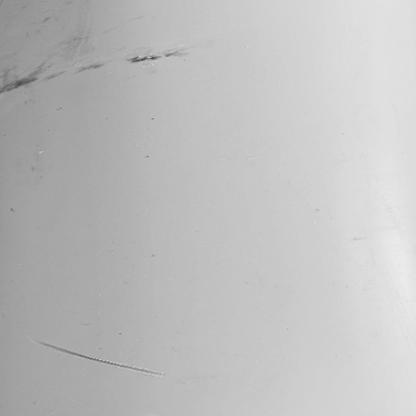sunshang: (36, 336, 165, 377)
